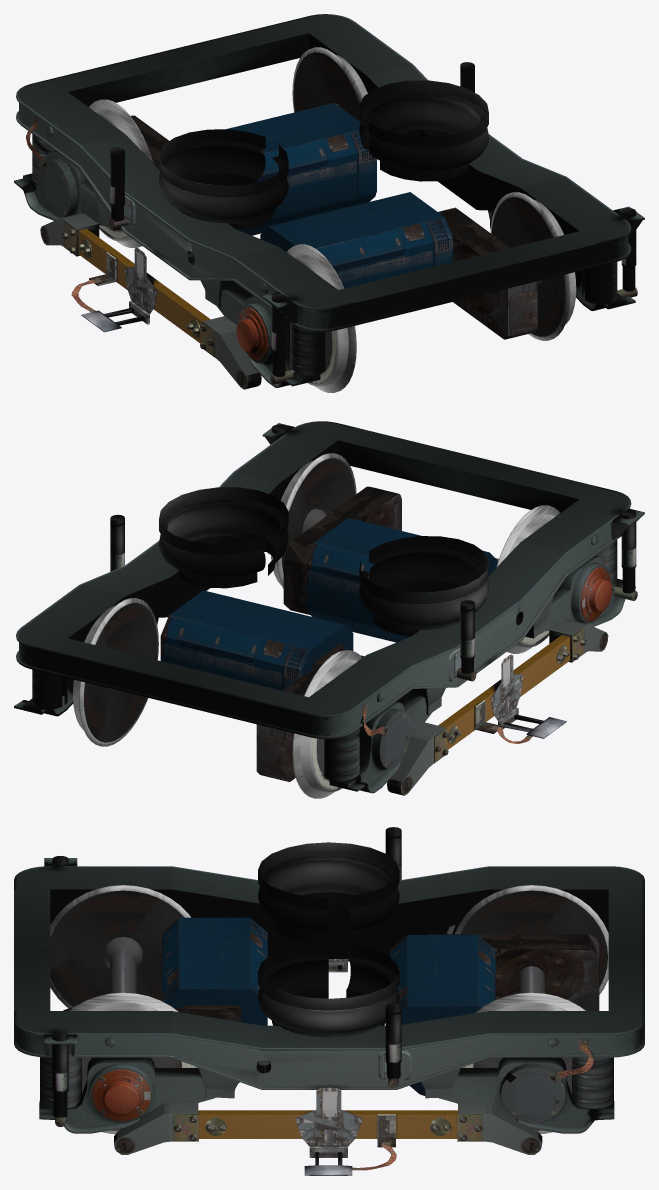
The model's file is bogey_3.obj.
The picture shows the model from 3 angles, top to bottom: view 1: azimuth 30°, elevation 25°; view 2: azimuth 150°, elevation 25°; view 3: azimuth 270°, elevation 25°; orthographic projection. The views are drawn at different scales.
Visible parts, largest first — view 1: bogie; view 2: bogie; view 3: bogie.
Boxes of the visible parts, x1,y1,x2,y2 form: bogie: [14, 14, 644, 392]; bogie: [14, 421, 644, 798]; bogie: [14, 827, 644, 1175].
Bounding box in the file's own units: 3.23 × 1.05 × 3.7.
1 material, 1 textured.
